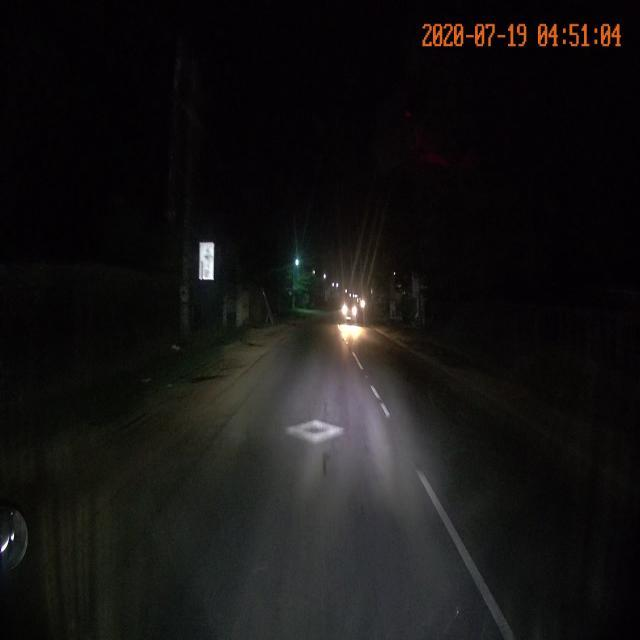diamond: (212, 415, 402, 445)
